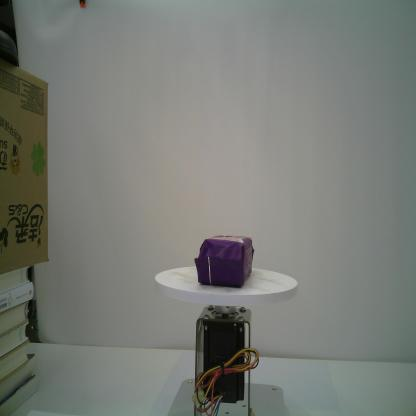Dessert: (192, 233, 256, 289)
